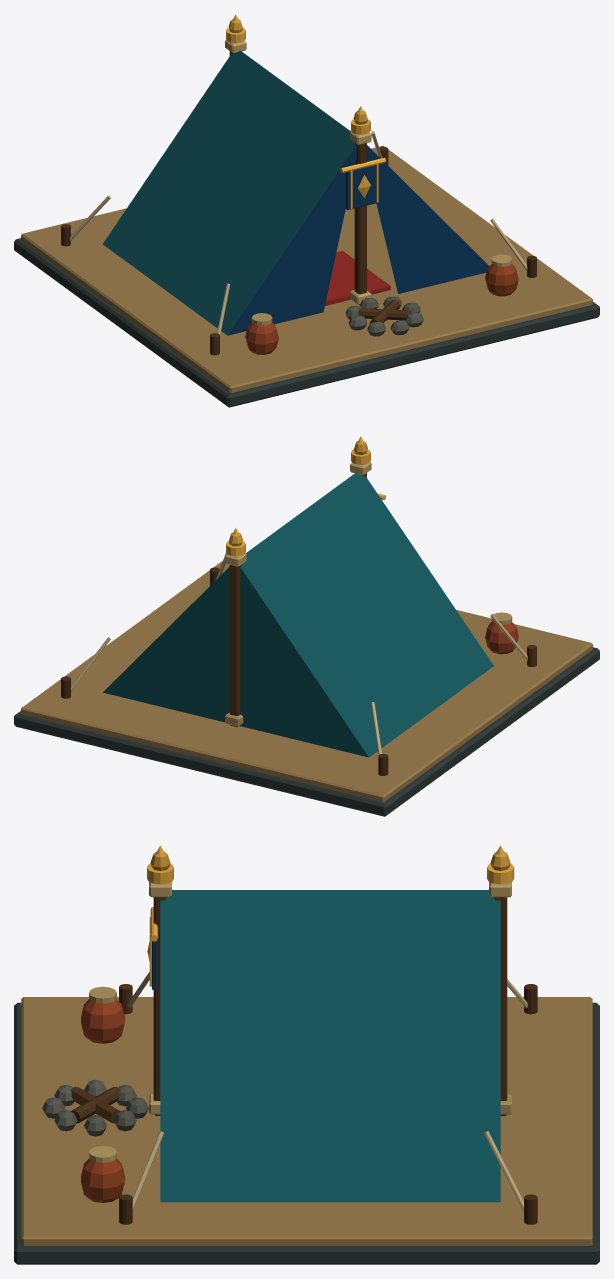
File: camp.glb
3 renders of one model, top to bottom at view 1: azimuth 30°, elevation 25°; view 2: azimuth 150°, elevation 25°; view 3: azimuth 270°, elevation 25°, orthographic. The views are drawn at different scales.
Visible parts, largest first — view 1: camp_structure, camp_brass; view 2: camp_structure, camp_brass; view 3: camp_structure, camp_brass.
Part boxes in pixels (box(x1,y1,x2,y2)): camp_structure: box(14, 19, 599, 407); camp_brass: box(226, 14, 385, 209); camp_structure: box(14, 441, 599, 816); camp_brass: box(226, 436, 385, 556); camp_structure: box(14, 852, 599, 1264); camp_brass: box(147, 845, 514, 986).
Bounding box in the file's own units: 5.6 × 3.13 × 5.6.
